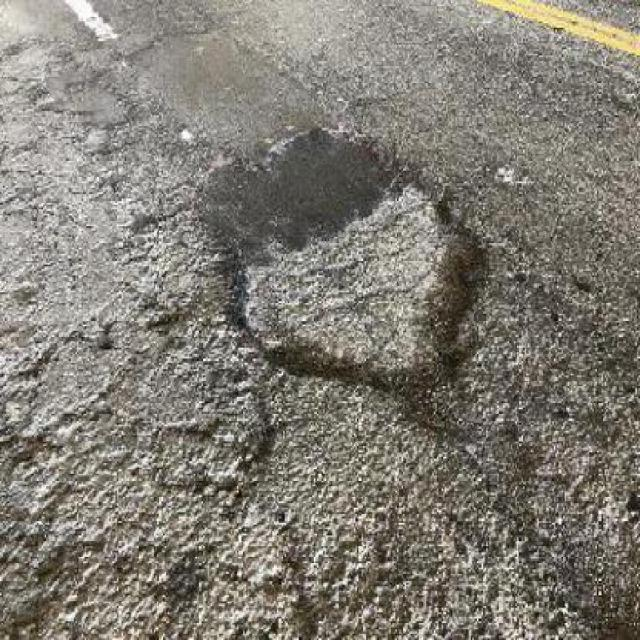pothole: (195, 118, 494, 434)
